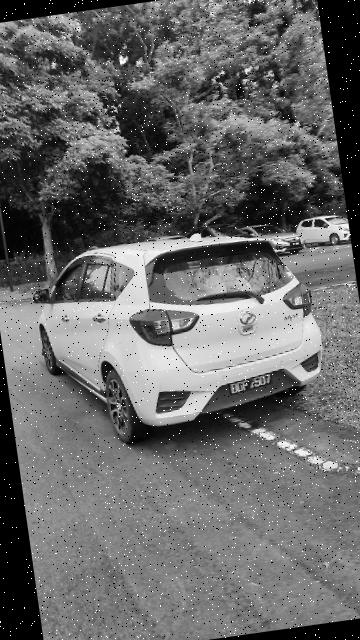License_Plate: (217, 368, 281, 407)
car: (20, 215, 343, 457)
